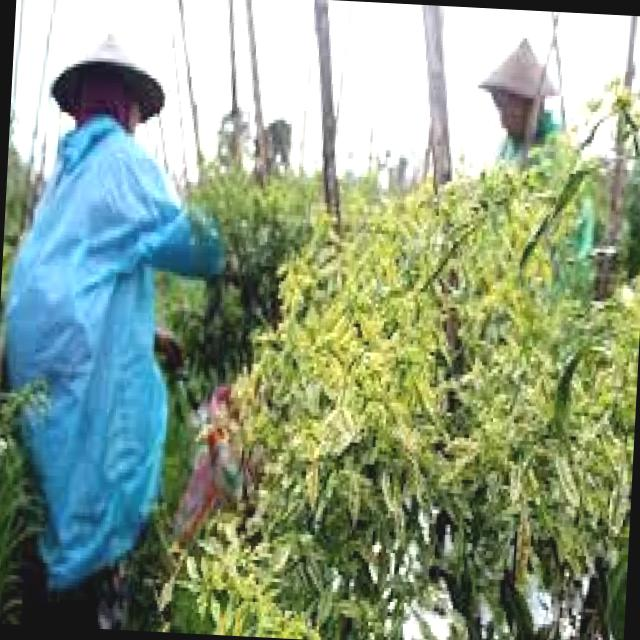yellowish leaf: (272, 188, 458, 501)
